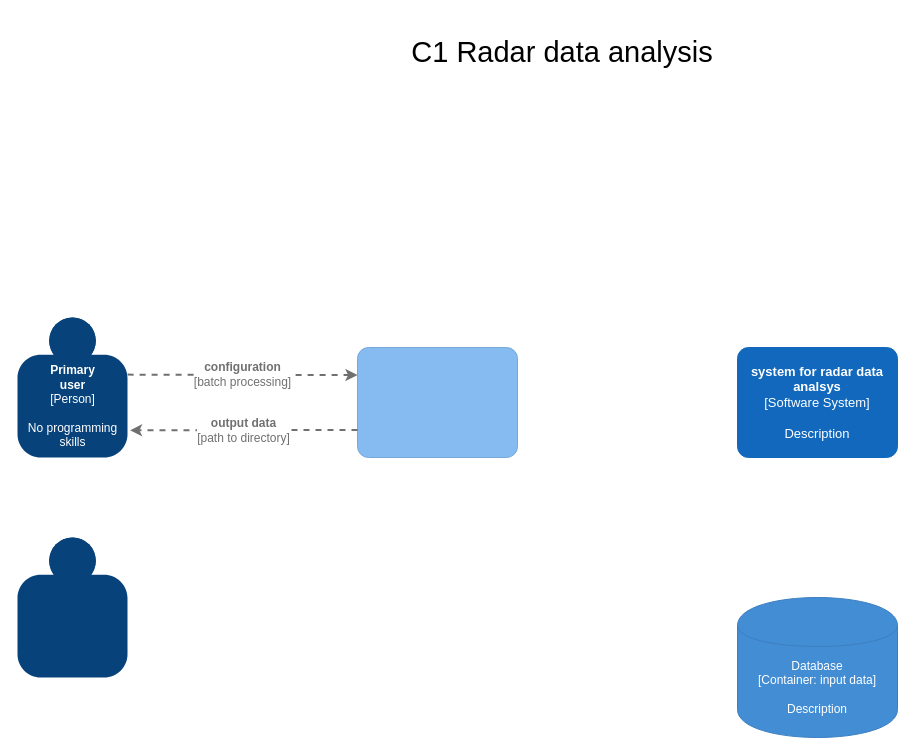
Image size: 915x755. Some labels were removed from this diagram. Each missing label, with the centre of its shape:
"experienced user [Person] High programming skills" belongs at [72,607].
"User interface [Component: technology] command line" belongs at [437,402].
